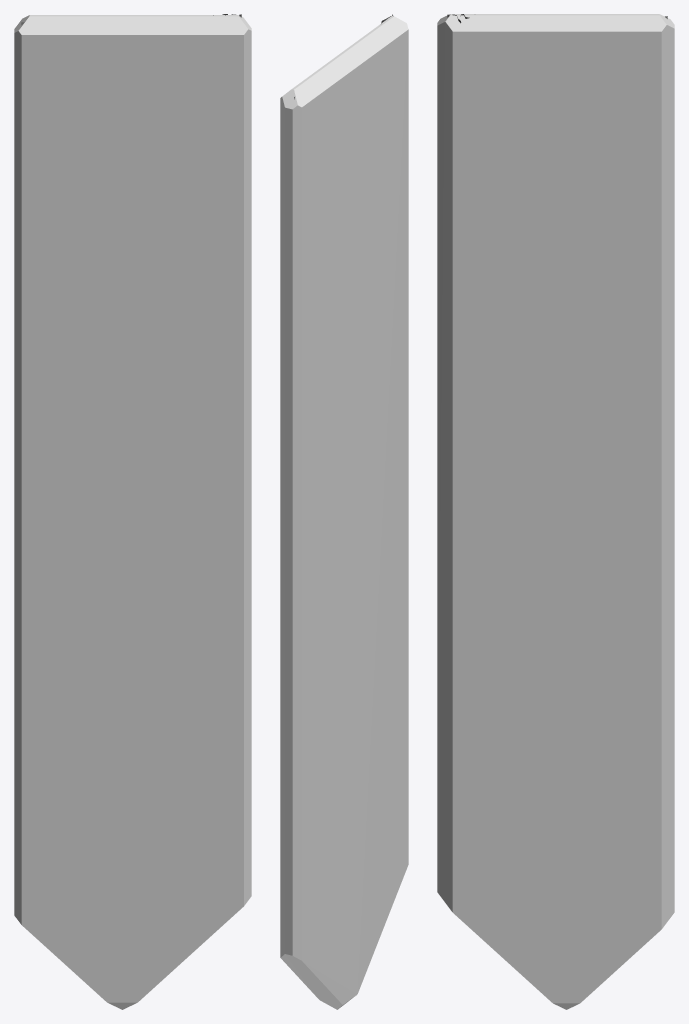
Rendered from SM_Flag.fbx.
3 renders of one model, left to right at view 1: azimuth 90°, elevation 25°; view 2: azimuth 150°, elevation 25°; view 3: azimuth 270°, elevation 25°, orthographic. The views are drawn at different scales.
Visible parts, largest first — view 1: SM_Flag_ConvexHulls; view 2: SM_Flag_ConvexHulls; view 3: SM_Flag_ConvexHulls.
Part boxes in pixels (box(x1,y1,x2,y2)): SM_Flag_ConvexHulls: box(14, 15, 251, 1009); SM_Flag_ConvexHulls: box(280, 16, 408, 1009); SM_Flag_ConvexHulls: box(437, 14, 674, 1009).
Size of the model in its own units: 23.59 by 192 by 888.
